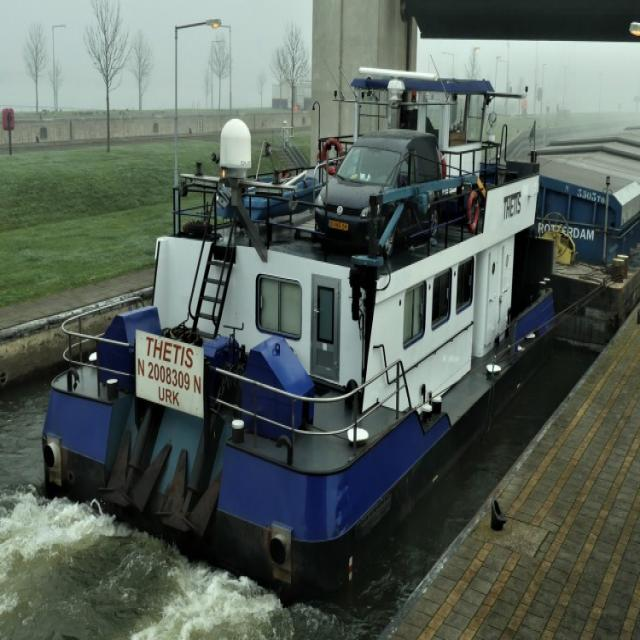tugboat: (35, 61, 563, 621)
